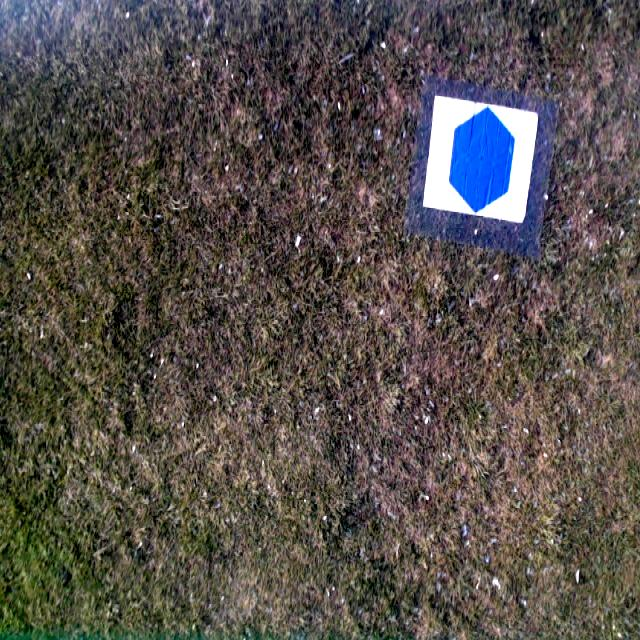blue_hexagon: (449, 109, 514, 214)
